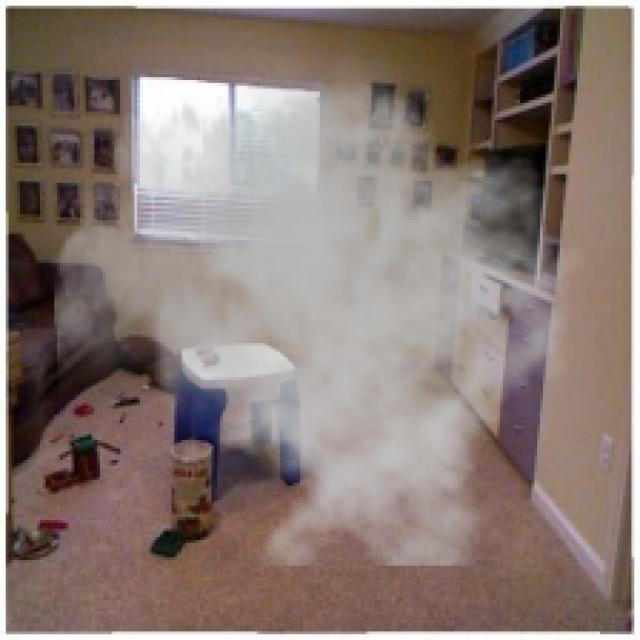smoke: (51, 31, 588, 566)
